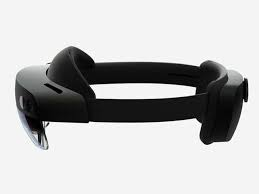hololens: (17, 44, 248, 155)
